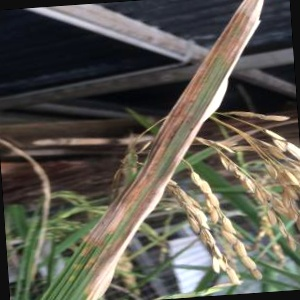Leaf_Blast: (67, 190, 136, 300)
